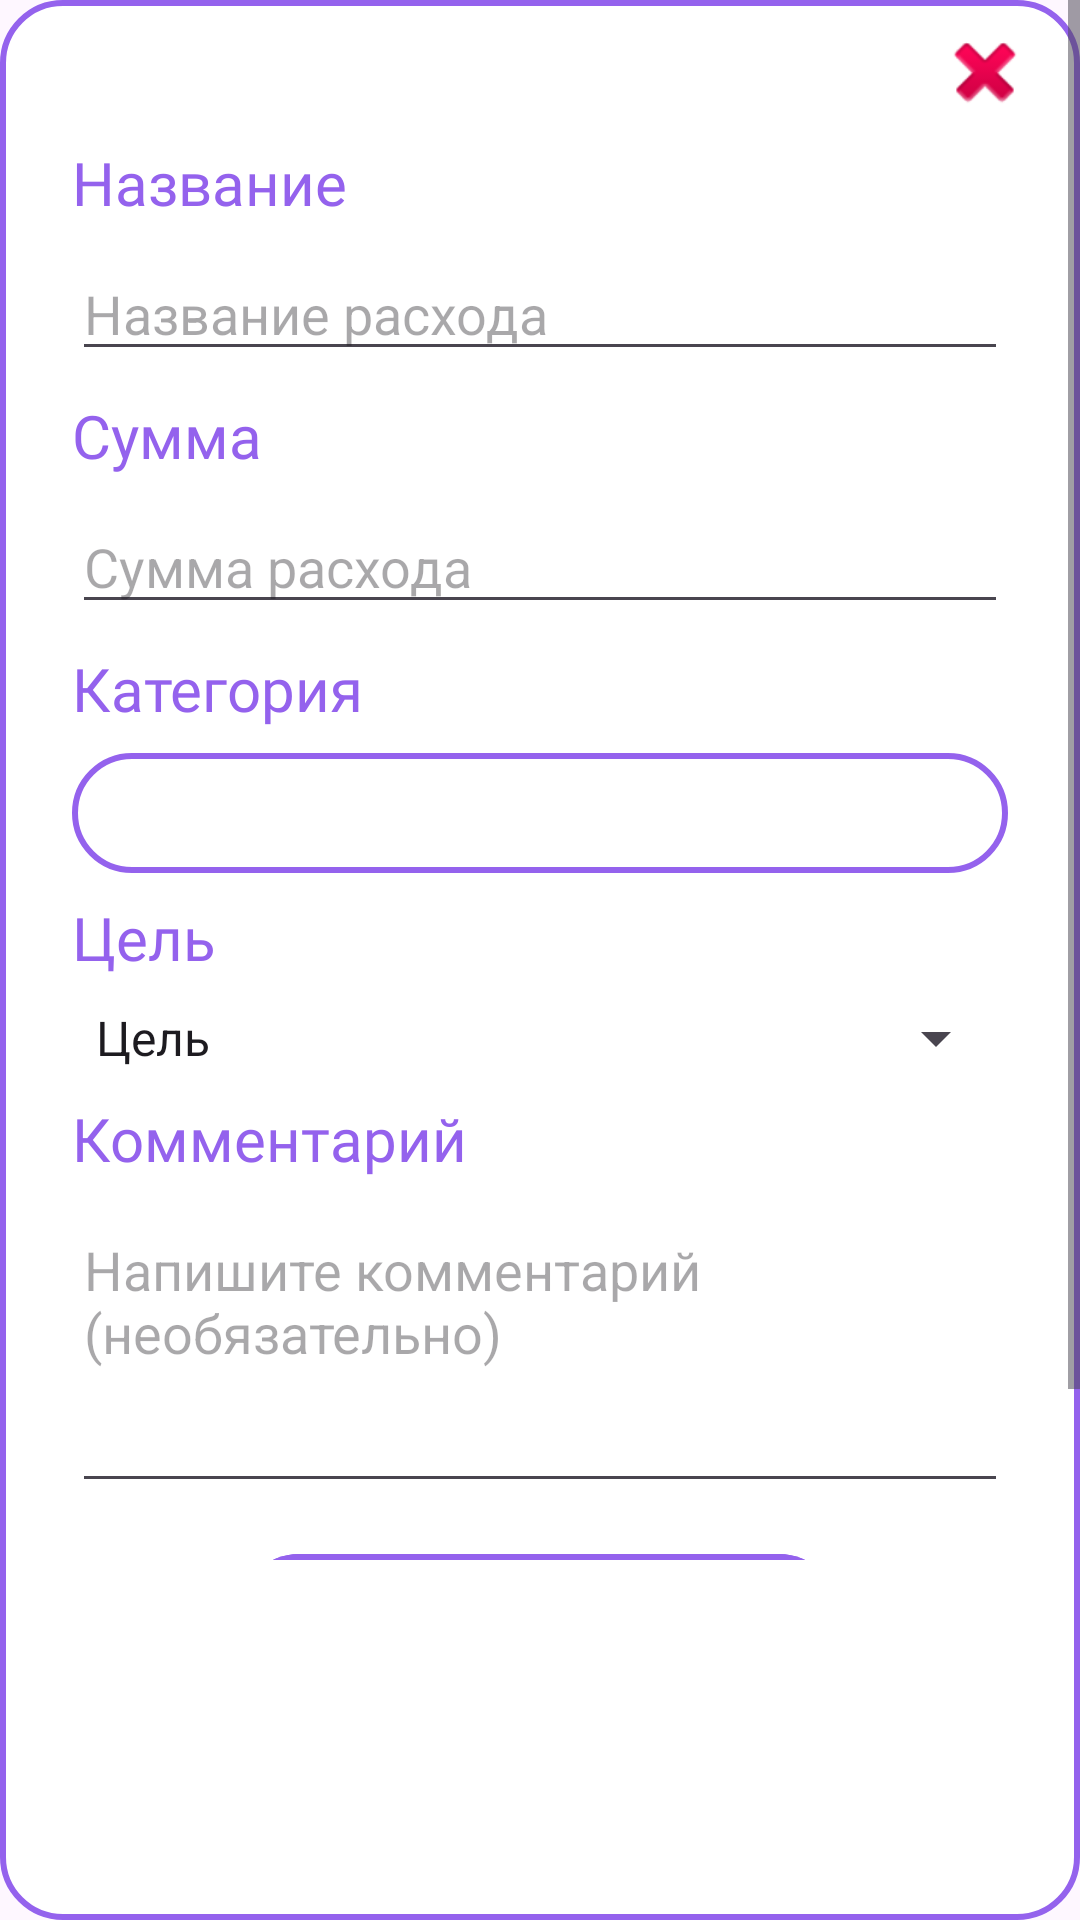

Screen size 1080×1920. Icon name, then its center in pixels as [x,y]:
delete: [985,72]
